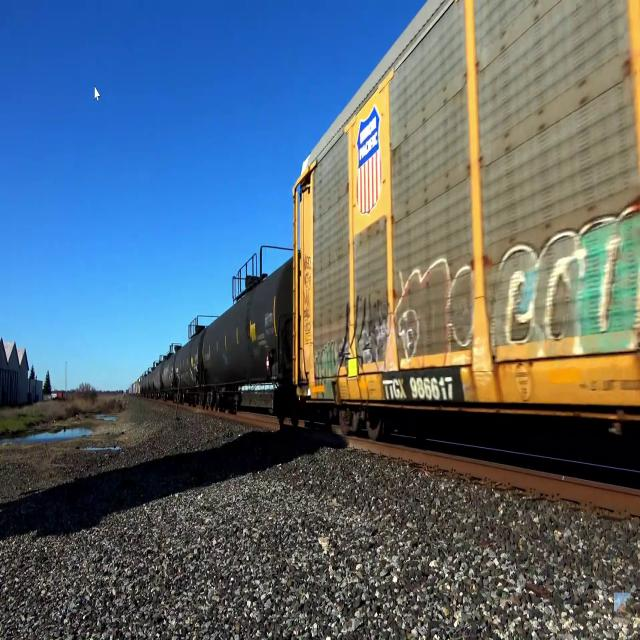autorack: (292, 0, 640, 446)
tank: (200, 249, 292, 427), (175, 324, 202, 408)
